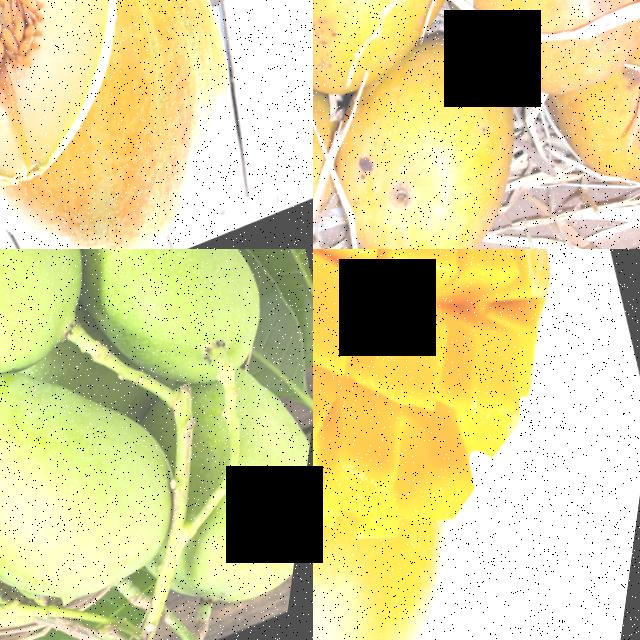mango: (0, 321, 225, 640), (313, 38, 578, 249), (56, 249, 302, 425), (440, 0, 640, 127), (313, 0, 530, 102), (0, 249, 127, 411), (550, 46, 640, 221)
melon: (0, 0, 167, 236)
